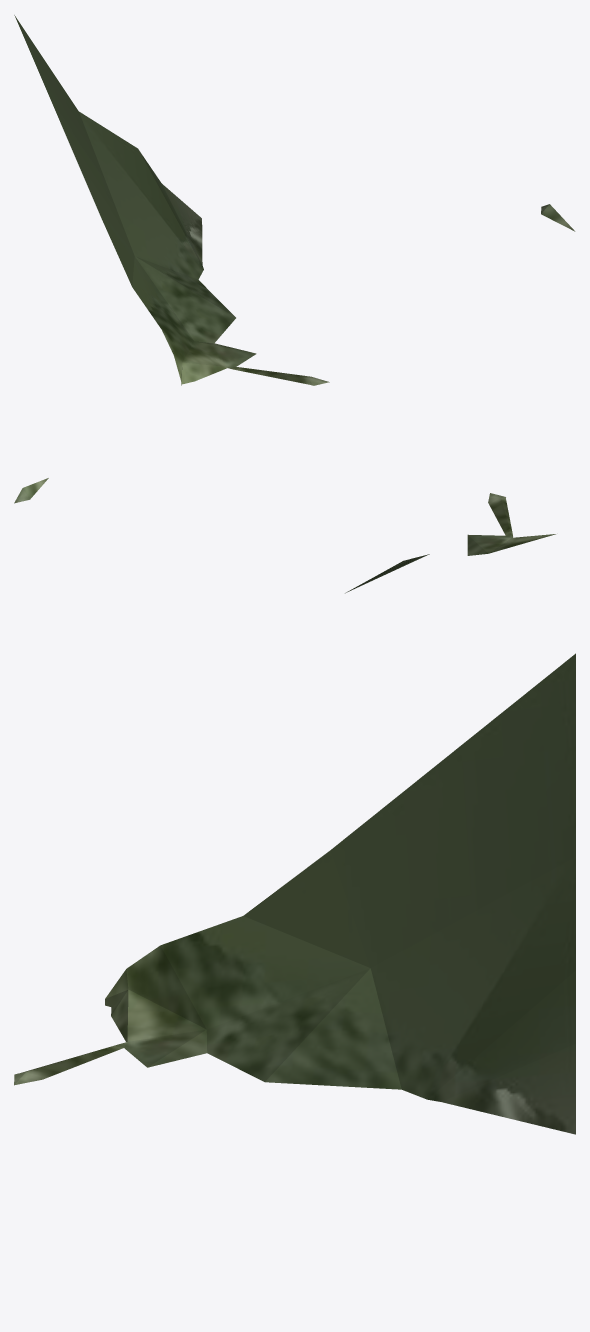
3 views of the same model, one above another, from view 1: azimuth 30°, elevation 25°; view 2: azimuth 150°, elevation 25°; view 3: azimuth 270°, elevation 25° (orthographic). The views are drawn at different scales.
Size of the model in its own units: 2.95 by 1.55 by 2.24.
1 material, 1 textured.
